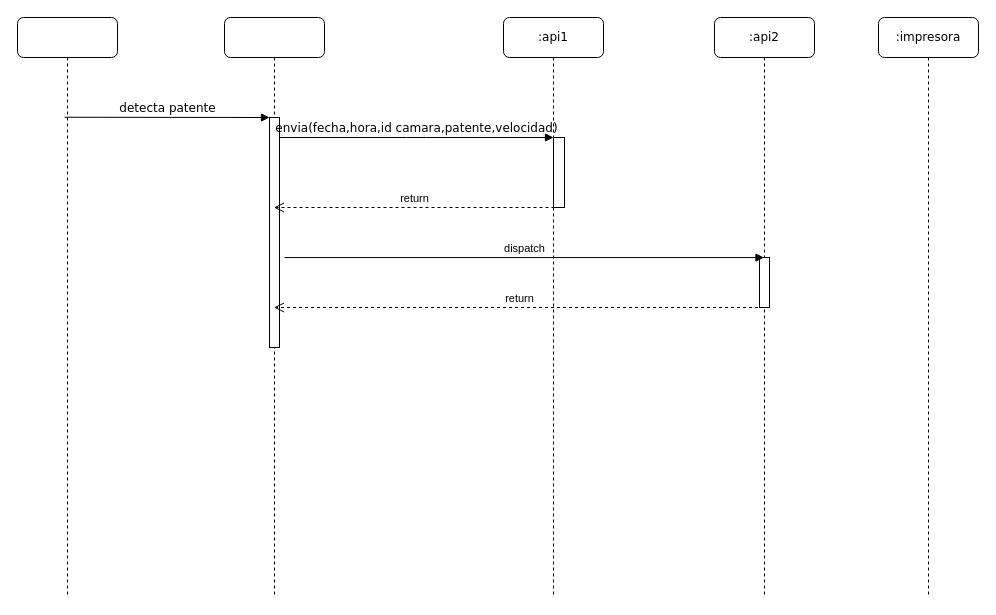
The diagram is 996 pixels wide and 615 high, and some of its shapes have lost their labels. Here are the shapes that lost their labels. From the top down, the box of each, then its label:
(16, 16, 118, 598): :camara
(224, 16, 324, 598): :sistema
